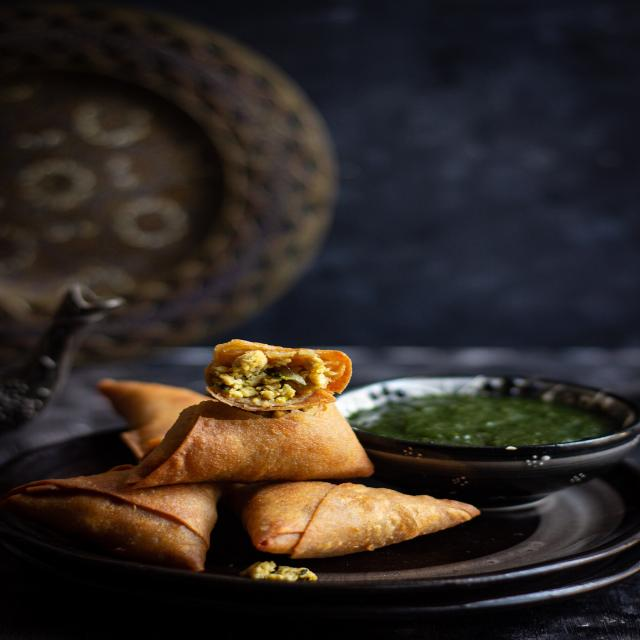SAMOSA: (112, 332, 375, 497), (253, 481, 484, 559)
